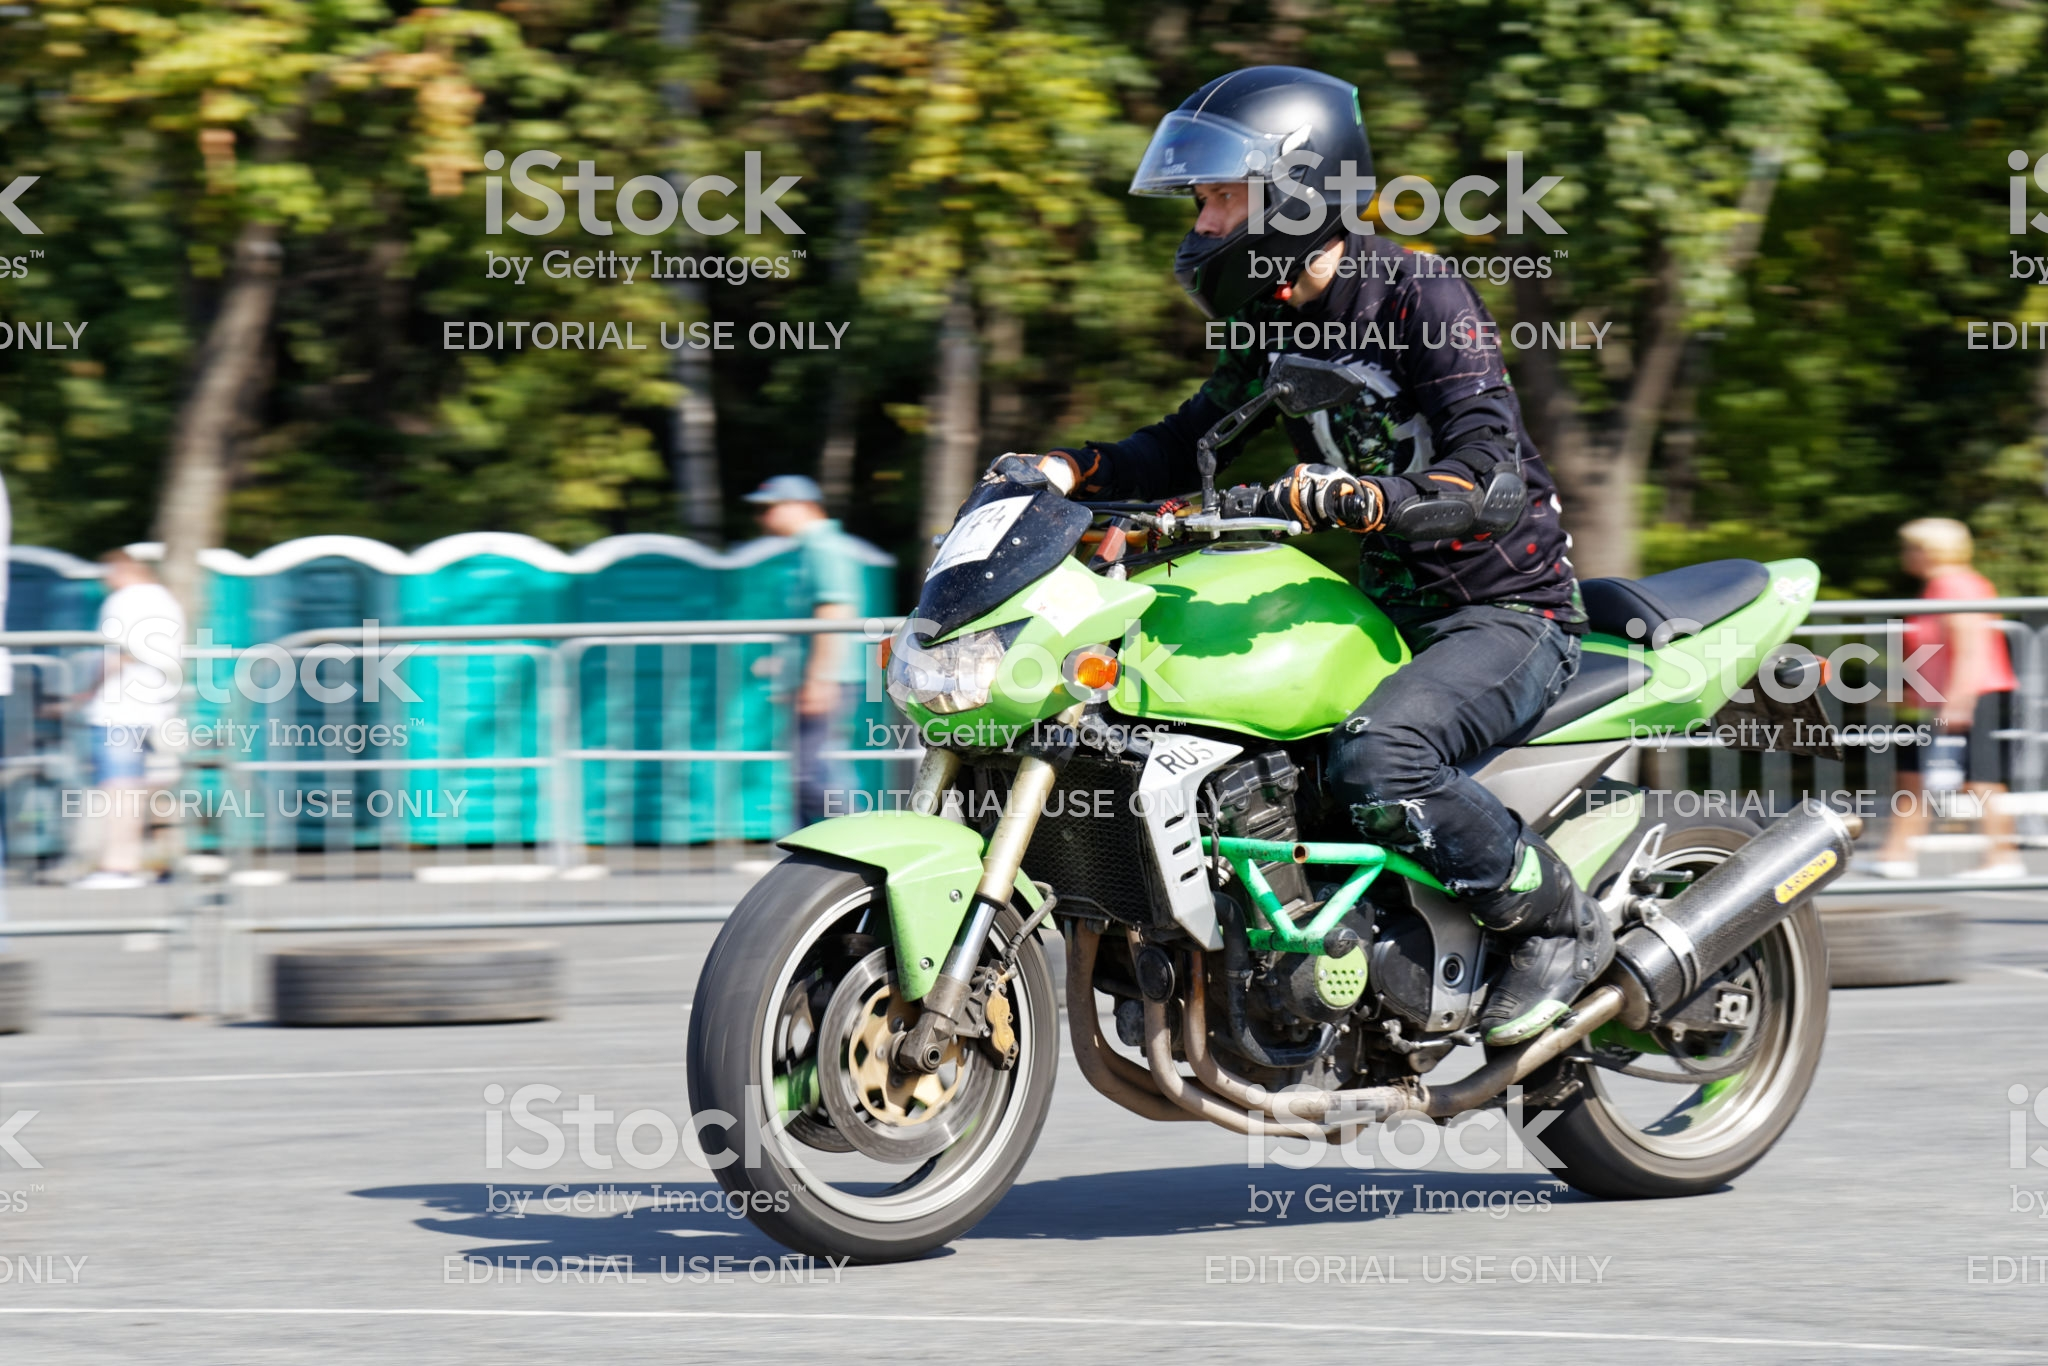helmet: (1129, 50, 1390, 273)
